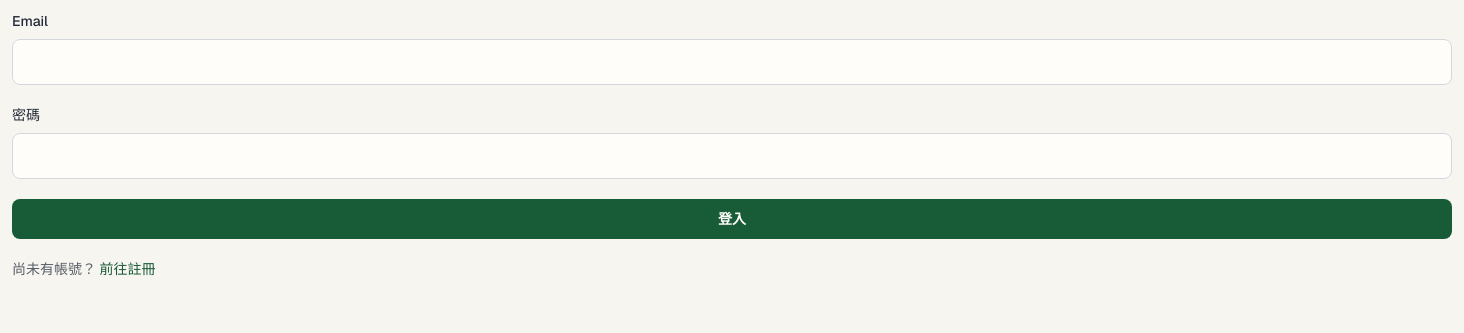
Test: LoginForm › INVALID_CREDENTIALS 時顯示錯誤訊息
This screenshot has width=1464, height=333.
Type "user@example.com" into the field labelled "Email". click: (732, 62)
box: [12, 39, 1452, 85]
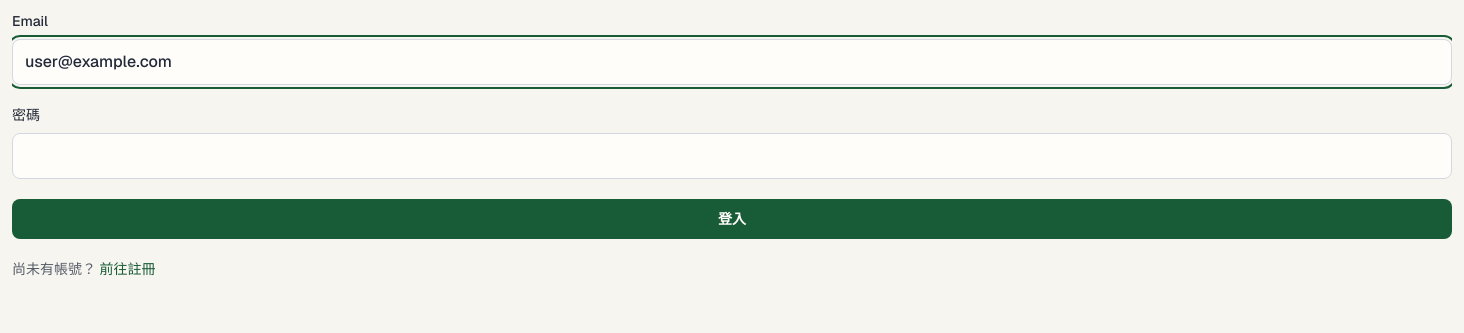
Type "wrong-password" into the password field labelled "密碼". click: (732, 156)
box: [12, 133, 1452, 179]
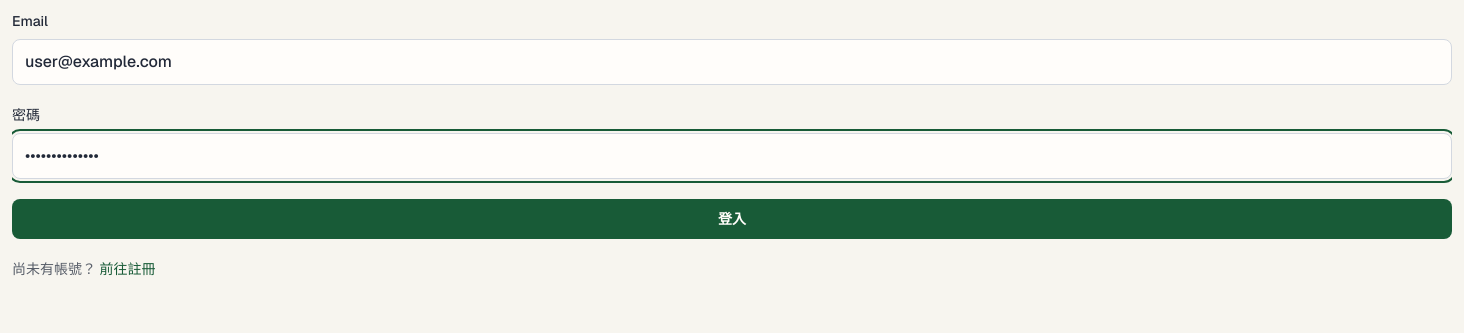
Click the button "登入". click: (732, 219)
box: [12, 199, 1452, 239]
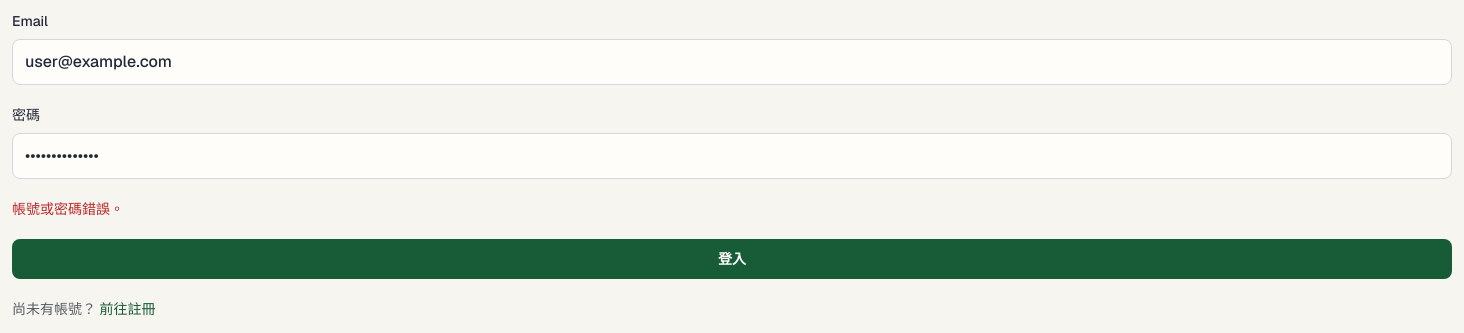
expect the text "帳號或密碼錯誤。" is shown: met, box [12, 200, 124, 218]
